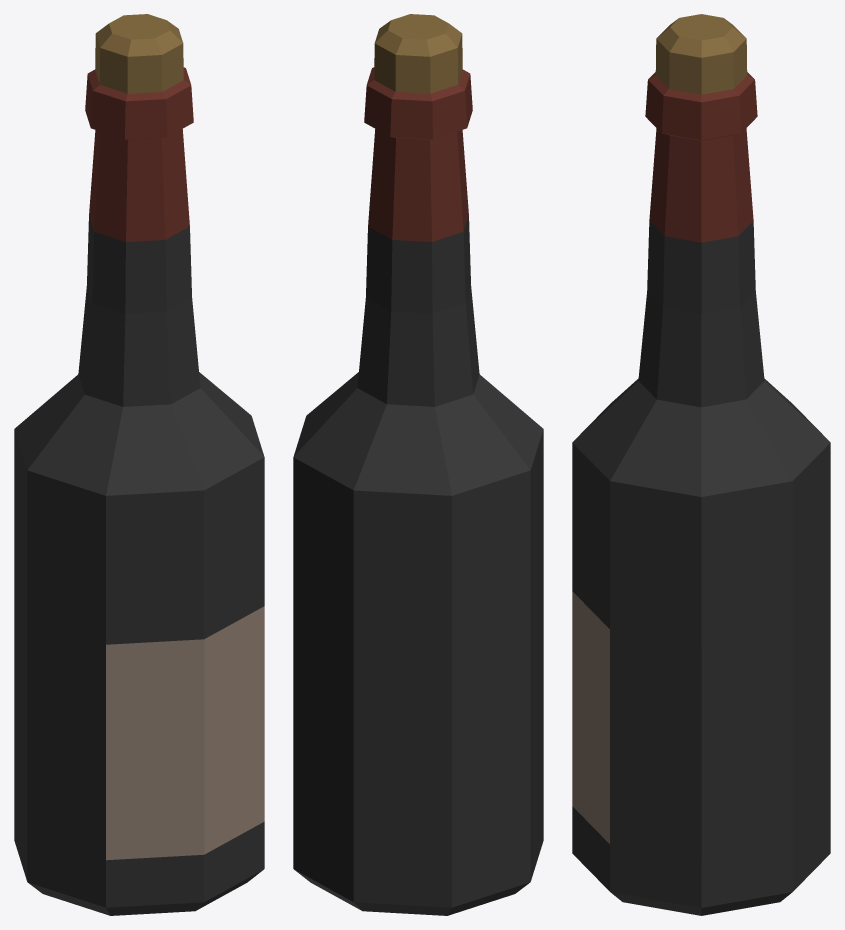
Rendered from Bottle2.glb.
The picture shows the model from 3 angles, left to right: view 1: azimuth 30°, elevation 25°; view 2: azimuth 150°, elevation 25°; view 3: azimuth 270°, elevation 25°; orthographic projection.
Parts seen in each view (by area): view 1: Bottle2; view 2: Bottle2; view 3: Bottle2.
Part boxes in pixels (x1,y1,x2,y2): Bottle2: (14, 14, 264, 915); Bottle2: (293, 14, 543, 915); Bottle2: (572, 14, 830, 915).
Size of the model in its own units: 0.4517 by 1.62 by 0.4517.
